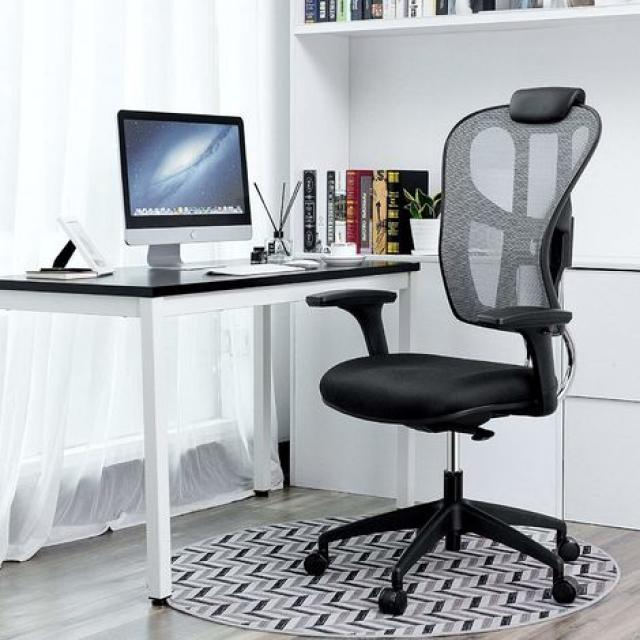chair: (304, 68, 618, 620)
